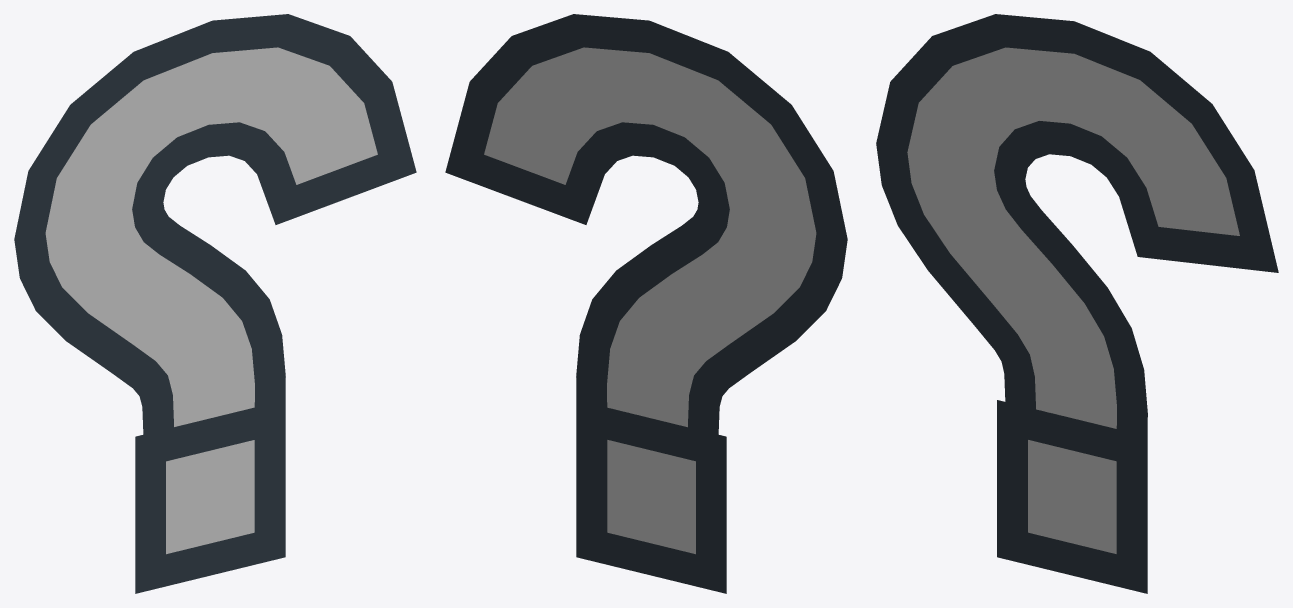
The model's file is Question.fbx.
3 views of the same model, side by side, from view 1: azimuth 30°, elevation 25°; view 2: azimuth 150°, elevation 25°; view 3: azimuth 330°, elevation 25° (orthographic).
Visible parts, largest first — view 1: Question; view 2: Question; view 3: Question.
Part boxes in pixels (<box>): Question: <box>14,14,416,593</box>; Question: <box>445,14,847,593</box>; Question: <box>876,14,1278,593</box>.
Bounding box in the file's own units: 0.8599 × 1.13 × 2.79e-07.
